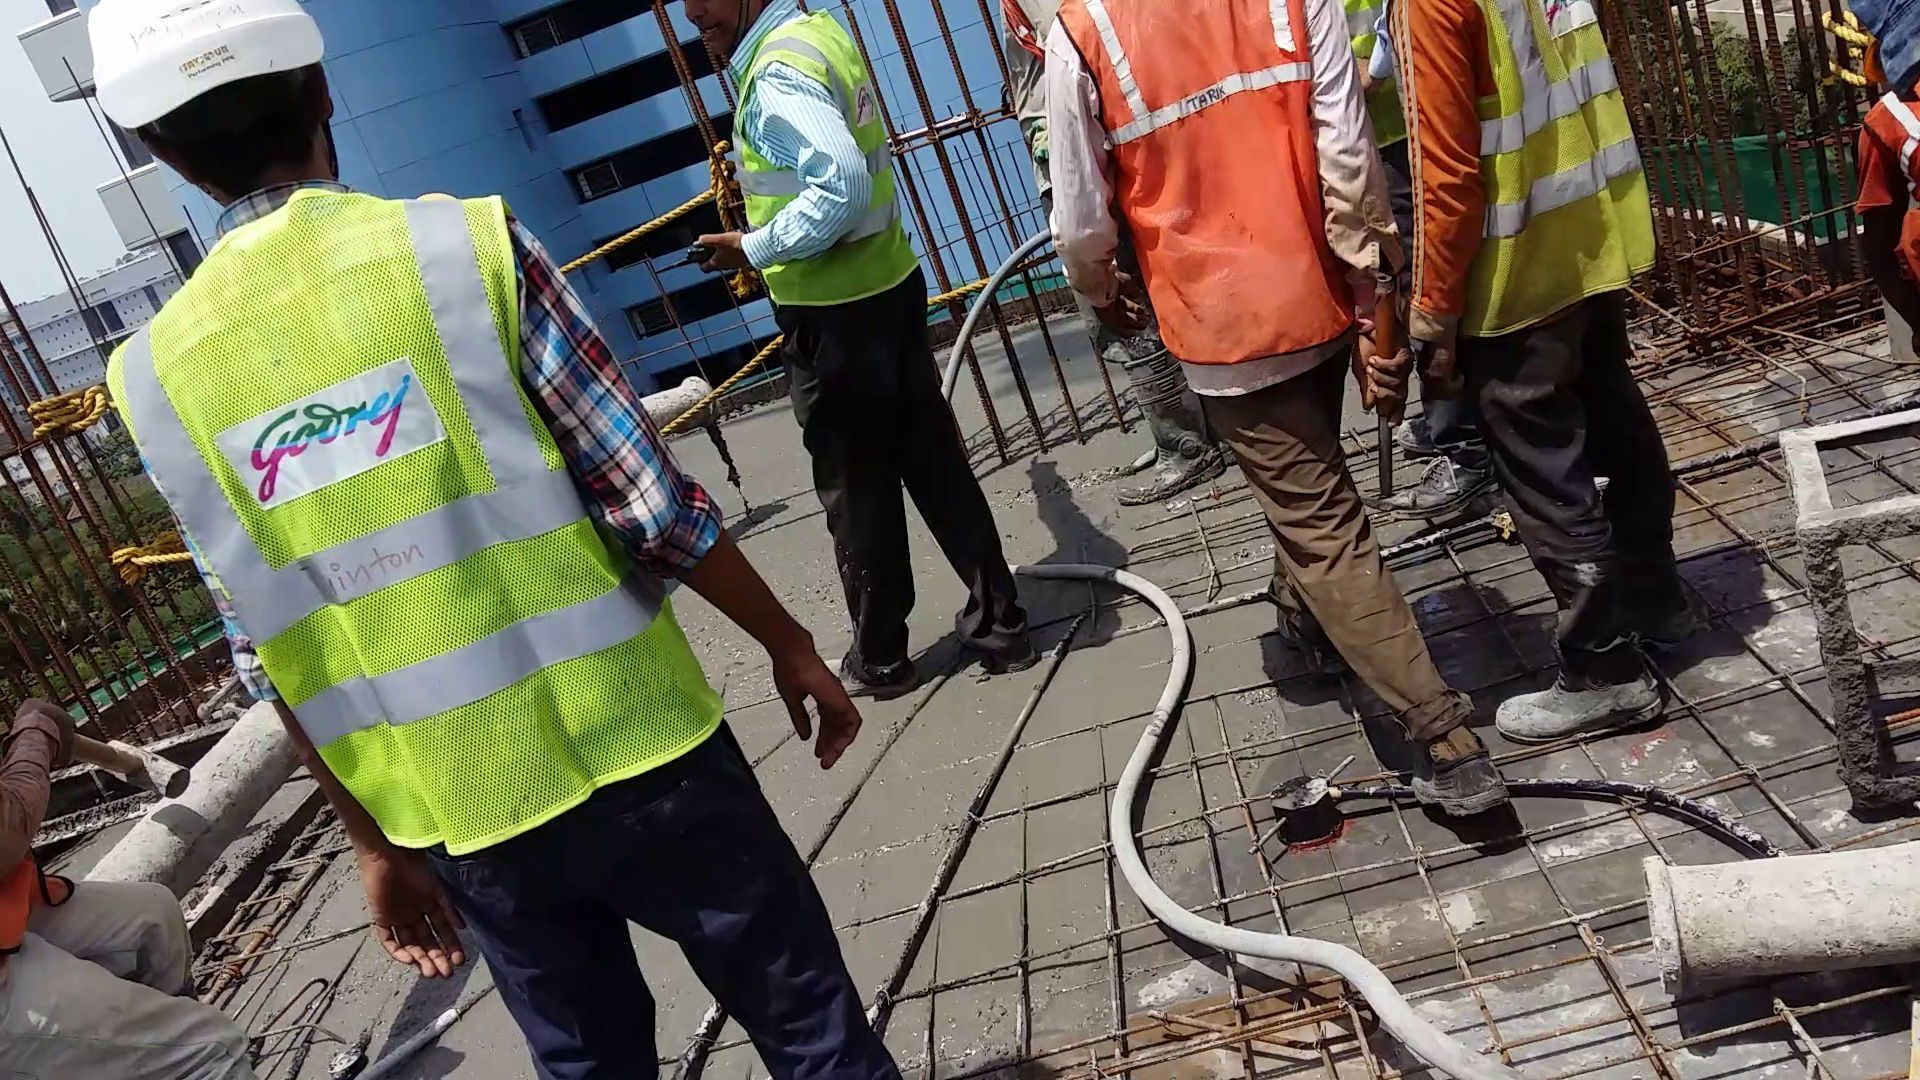SAFE: (86, 1, 531, 849)
